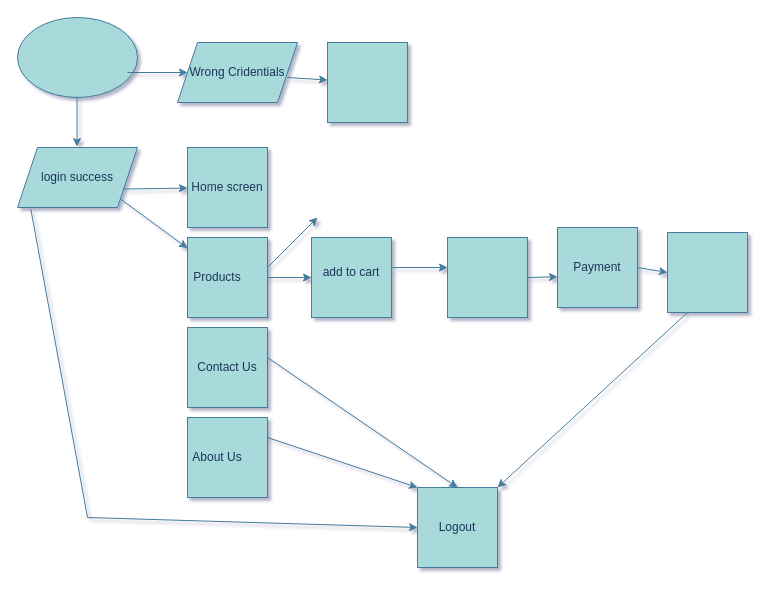
Some shapes in this 771 by 591 pixel diagram are drawn without their labels. Each missing label, with the centre of its shape:
"Cart Page" goes at pixel 487 277.
"check out" goes at pixel 707 272.
"SignUp" goes at pixel 367 82.
"Start/Login" goes at pixel 77 57.
